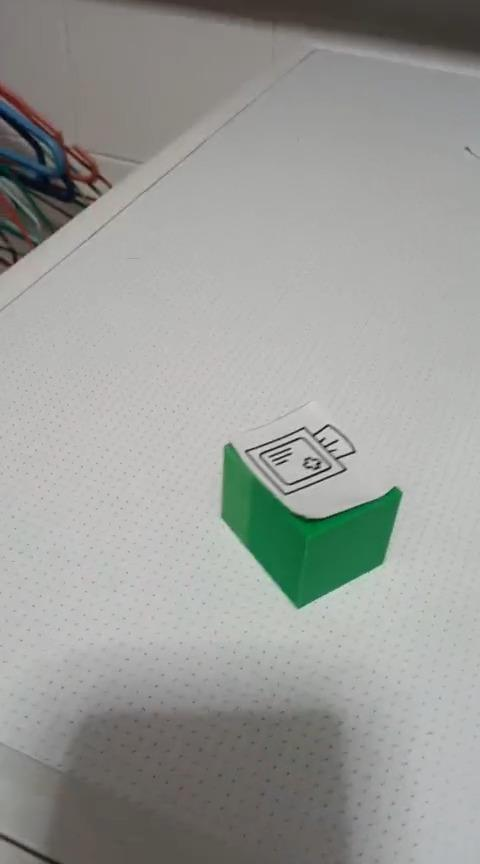Gauze: (219, 398, 403, 609)
